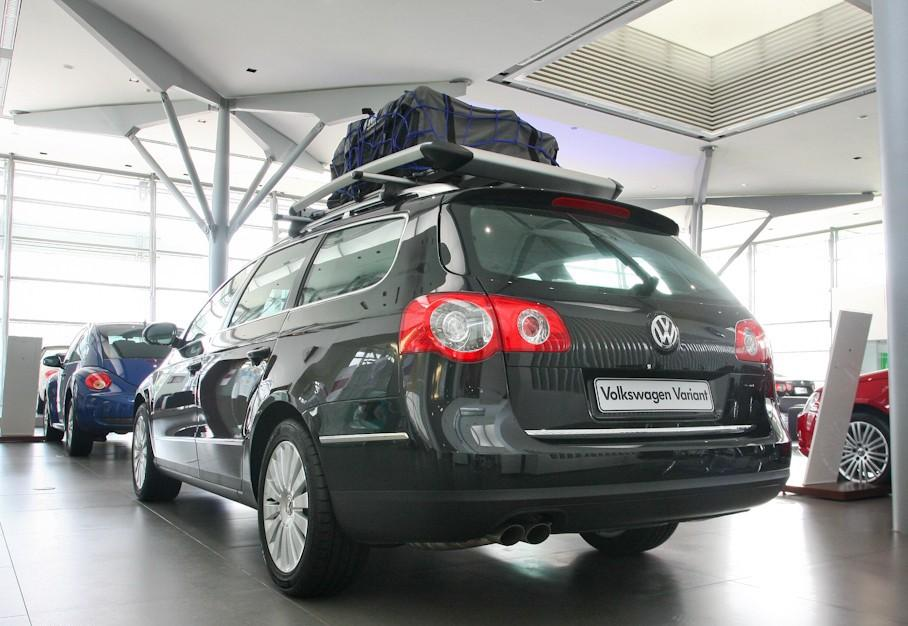Wagon: (130, 186, 794, 601)
